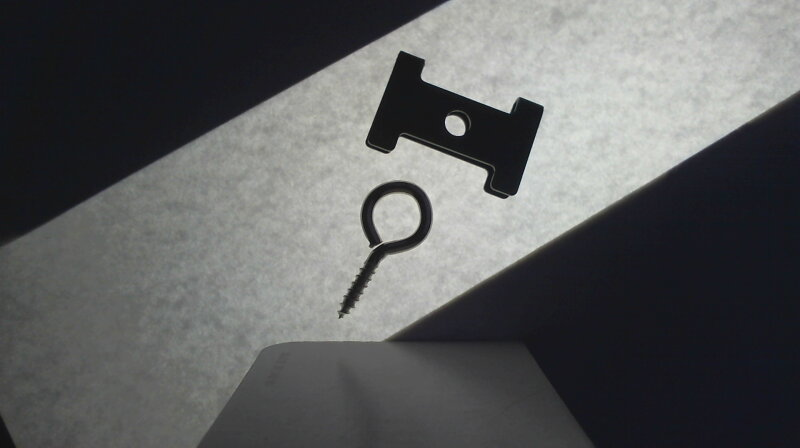O001: (333, 179, 435, 318)
O002: (362, 50, 543, 200)
